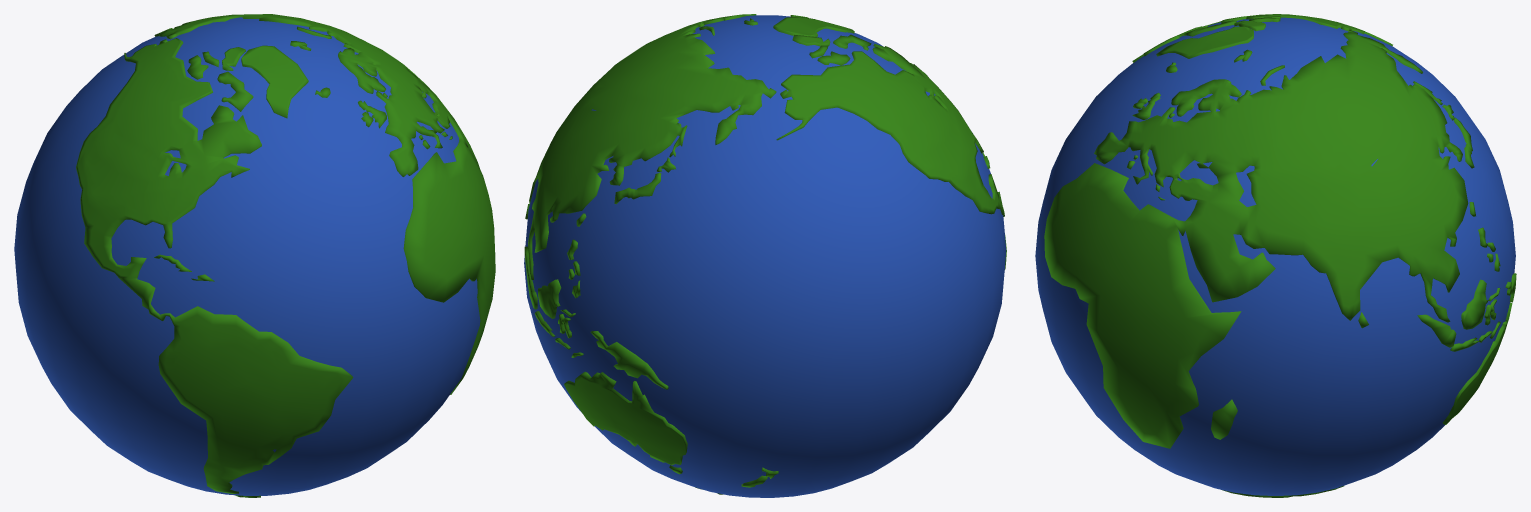
File: Globe.fbx
3 renders of one model, left to right at view 1: azimuth 30°, elevation 25°; view 2: azimuth 150°, elevation 25°; view 3: azimuth 270°, elevation 25°, orthographic.
Visible parts, largest first — view 1: Planet Water, Planet Earth; view 2: Planet Water, Planet Earth; view 3: Planet Earth, Planet Water.
Boxes of the visible parts, x1,y1,x2,y2 form: Planet Water: (14, 17, 480, 495); Planet Earth: (76, 14, 495, 497); Planet Water: (524, 15, 1006, 497); Planet Earth: (524, 14, 1006, 494); Planet Earth: (1044, 14, 1516, 497); Planet Water: (1035, 17, 1515, 495).
Size of the model in its own units: 1600 by 1611 by 1602.
